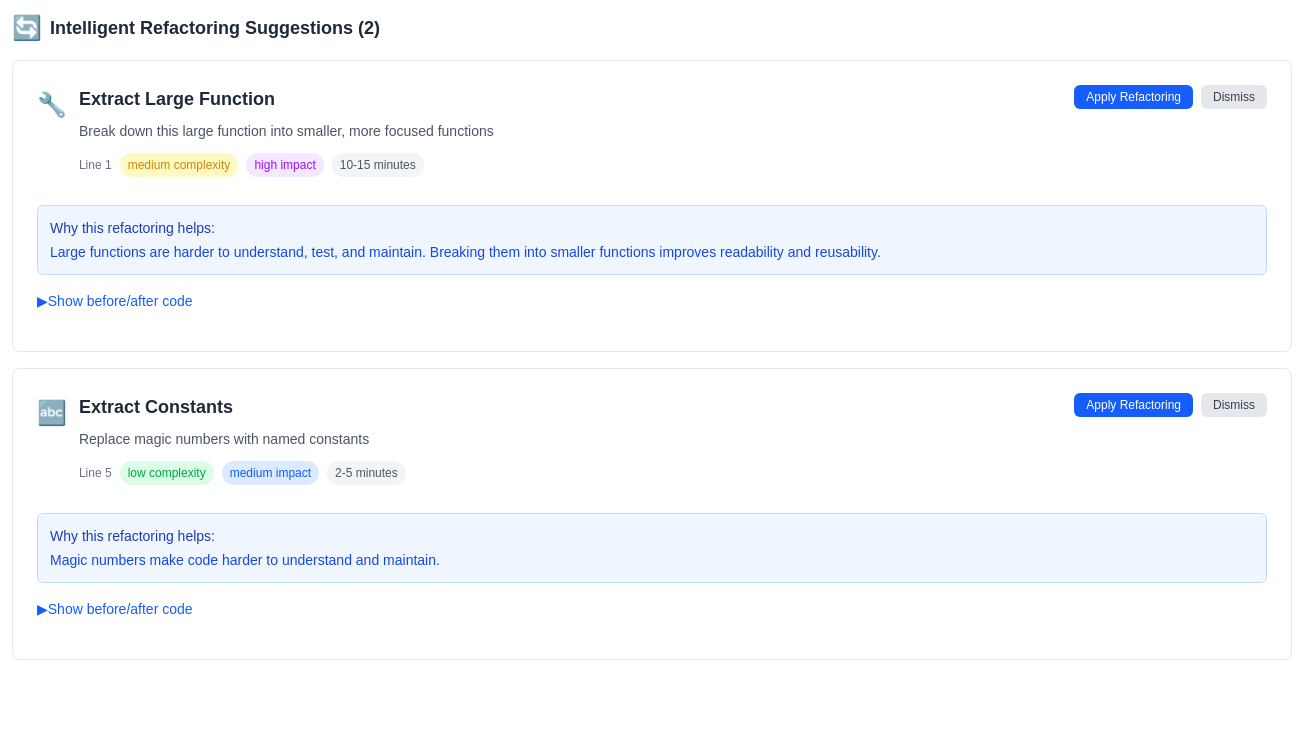
Test: RefactoringSuggestions › updates button state when refactoring is applied
The image size is (1304, 732).
What coordinates should you click on to do the following:
click the button "Apply Refactoring" in the row of "Extract Large Function"
I would click on:
 (1134, 97)
Its box is [1074,85,1193,109].
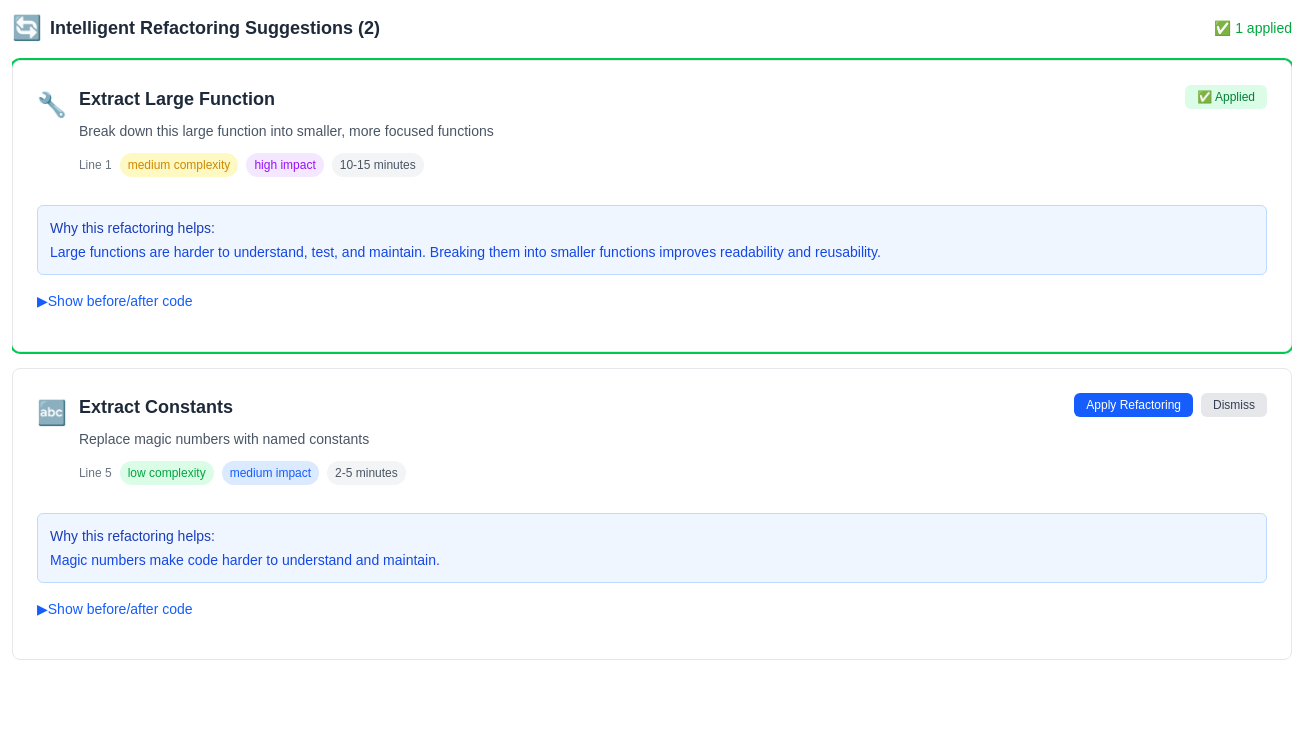
Check: the text "✅ Applied" is shown, box [1185,85,1267,109]
Check: the text "✅ 1 applied" is shown, box [1214,18,1292,38]
